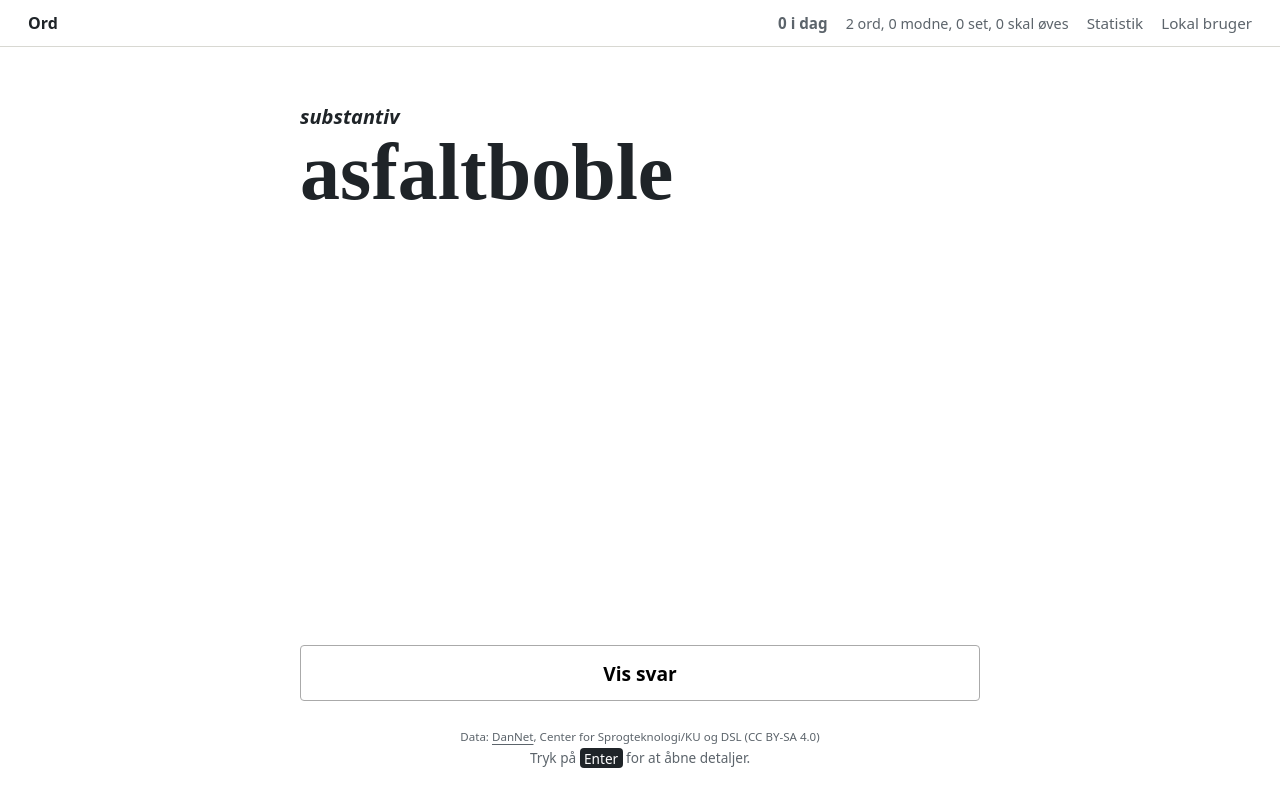
Test: Træner › viser Fortryd-knappen efter et svar og kalder undo-endpointet ved klik
The width and height of the screenshot is (1280, 800).
Press Enter
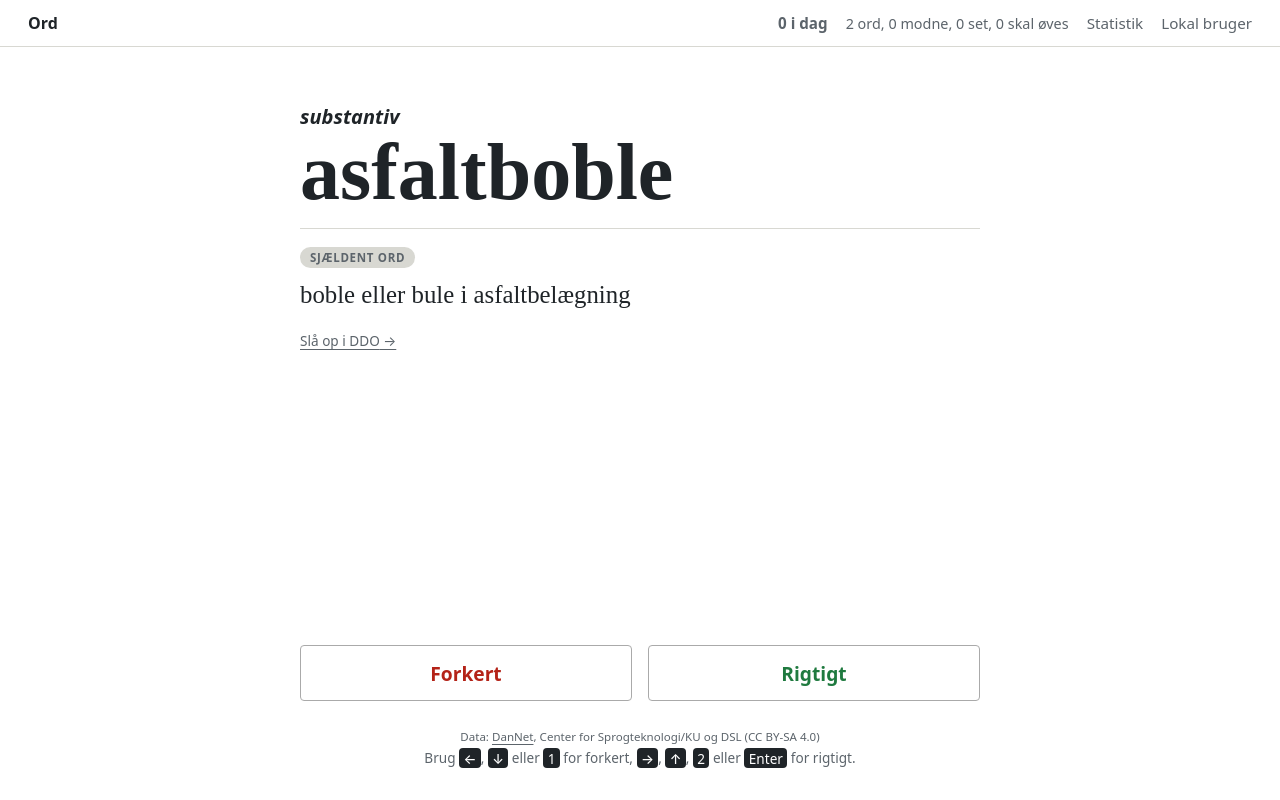
Press Arrowright
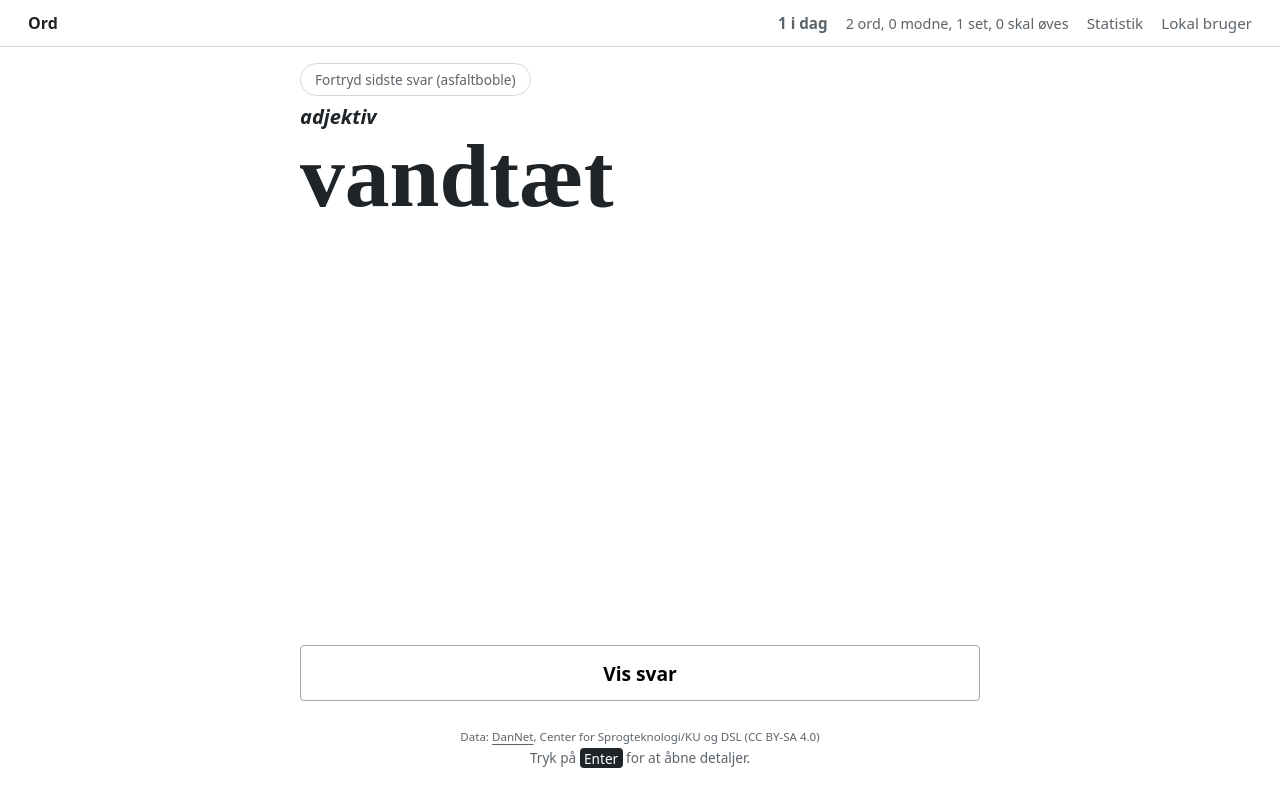
Click the button "Fortryd sidste svar (asfaltboble)". click: [415, 80]
box: left=300, top=63, right=531, bottom=96
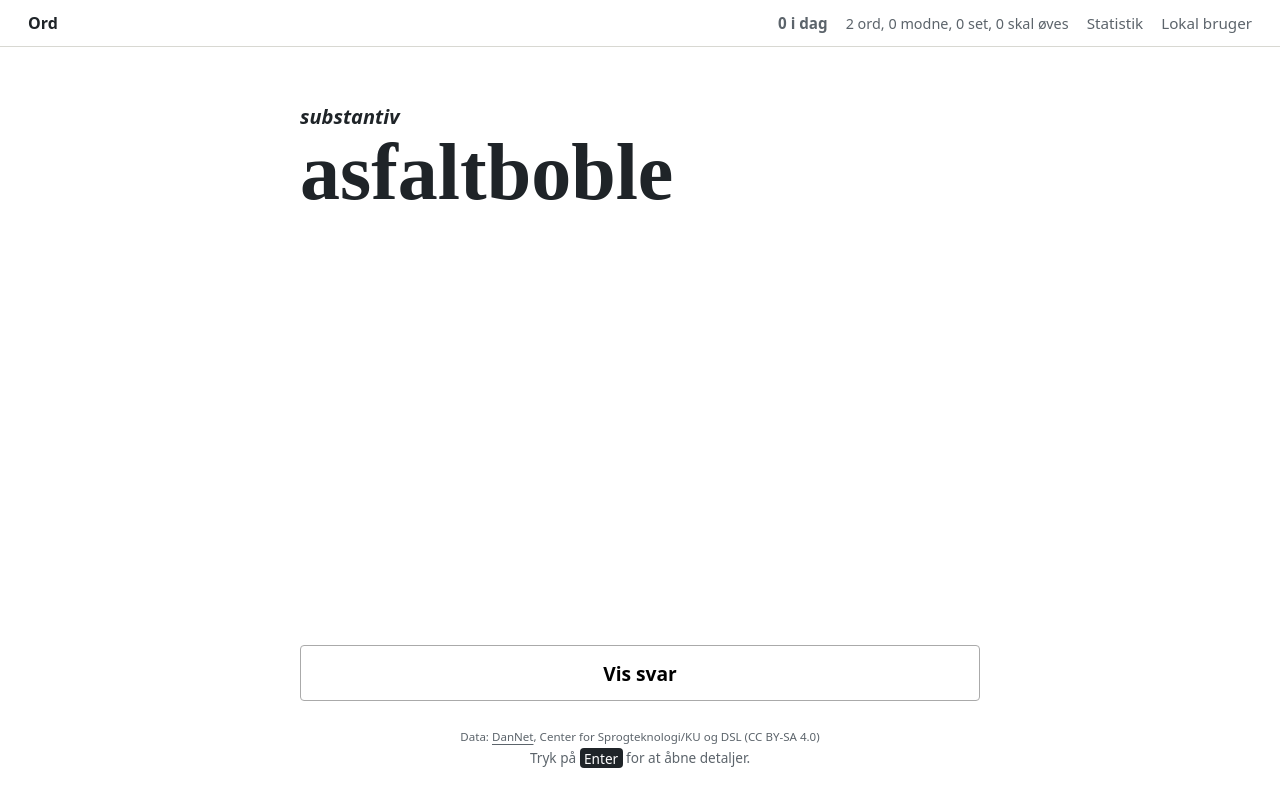
Check: the button "Fortryd sidste svar" is gone
